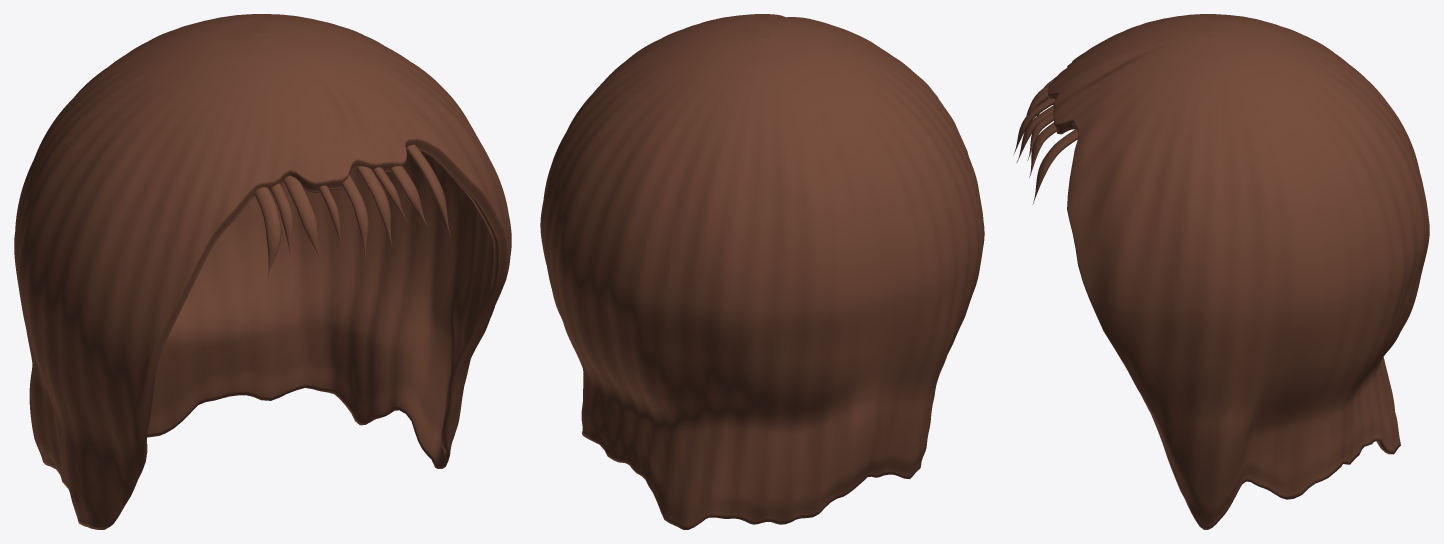
The model's file is side-sweep-none.glb.
The picture shows the model from 3 angles, left to right: view 1: azimuth 30°, elevation 25°; view 2: azimuth 150°, elevation 25°; view 3: azimuth 270°, elevation 25°; orthographic projection. The views are drawn at different scales.
Parts seen in each view (by area): view 1: Hair / layered lob, Fringe / tapered lock 01, Fringe / tapered lock 03, Fringe / tapered lock 09, Fringe / tapered lock 06, Fringe / tapered lock 05, Fringe / tapered lock 02, Fringe / tapered lock 08; view 2: Hair / layered lob; view 3: Hair / layered lob, Fringe / tapered lock 09.
Part boxes in pixels (box(x1,y1,x2,y2)): Hair / layered lob: box(14, 14, 511, 529); Fringe / tapered lock 01: box(254, 187, 281, 278); Fringe / tapered lock 03: box(283, 175, 321, 261); Fringe / tapered lock 09: box(406, 144, 450, 237); Fringe / tapered lock 06: box(356, 166, 392, 245); Fringe / tapered lock 05: box(342, 174, 368, 259); Fringe / tapered lock 02: box(270, 183, 293, 257); Fringe / tapered lock 08: box(390, 166, 427, 226); Hair / layered lob: box(540, 14, 984, 529); Hair / layered lob: box(1048, 14, 1429, 529); Fringe / tapered lock 09: box(1032, 129, 1078, 204).
Bounding box in the file's own units: 0.8388 × 0.8786 × 0.7904.
